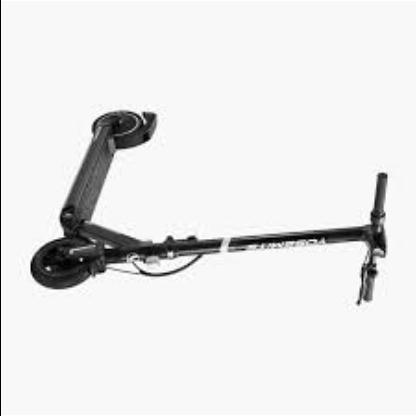bike: (29, 109, 391, 307)
